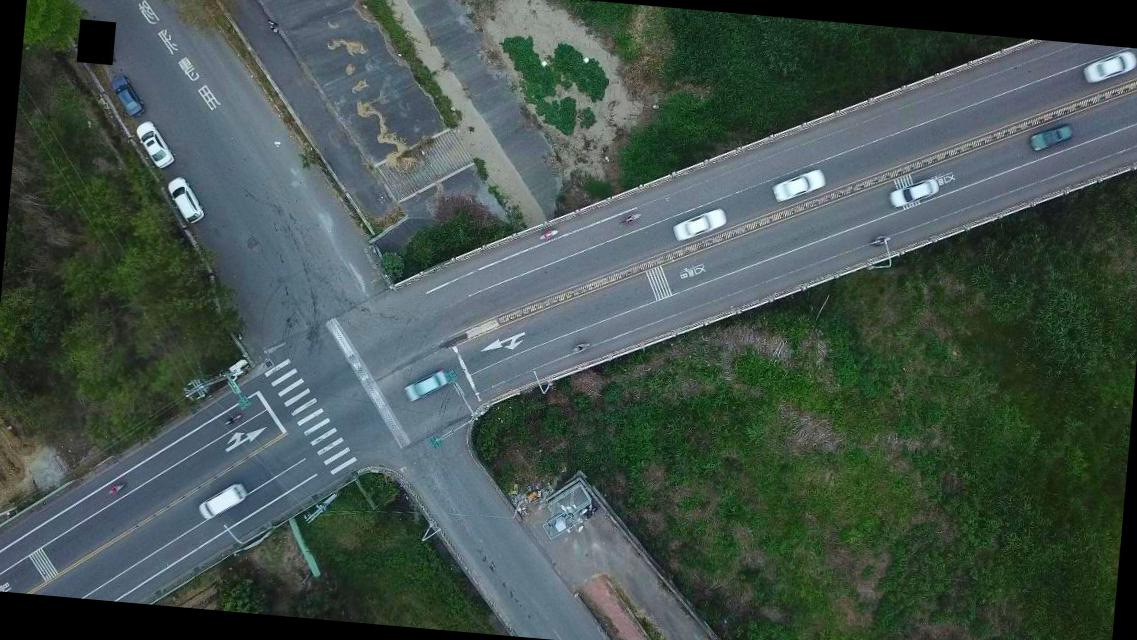vehicle: (195, 478, 249, 524), (770, 164, 826, 207), (1079, 47, 1136, 89), (130, 120, 177, 170), (162, 176, 208, 226), (672, 203, 726, 244), (887, 174, 940, 213), (400, 364, 448, 406), (106, 74, 146, 119), (1027, 120, 1071, 156)
